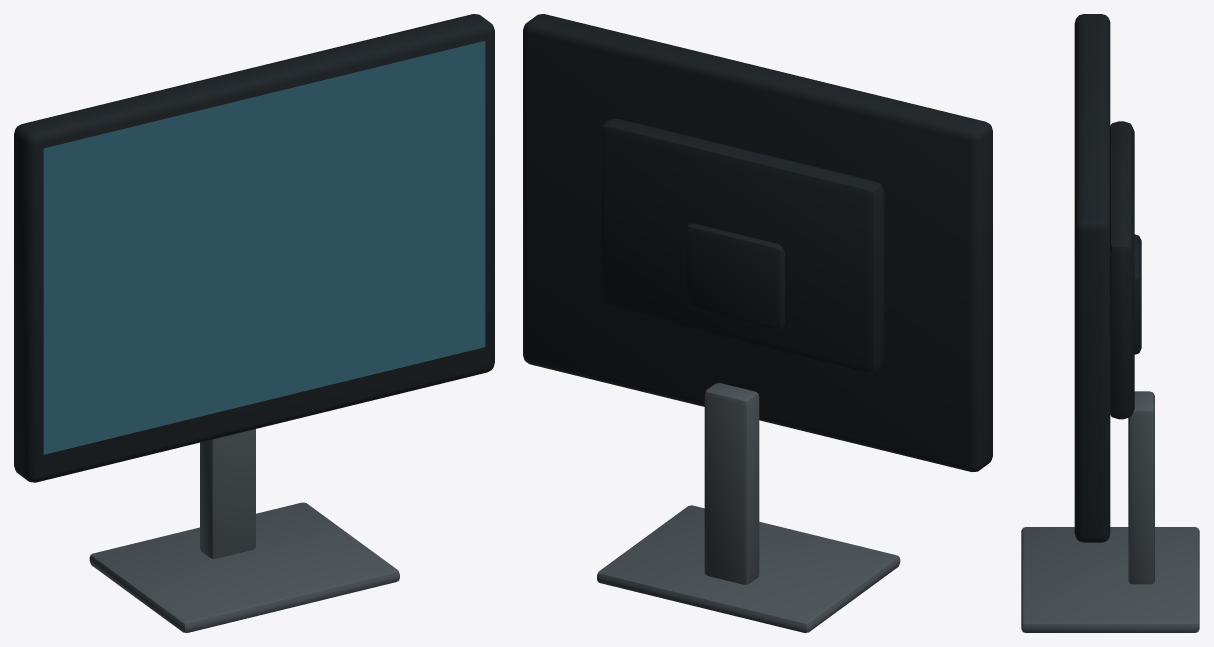
Rendered from checkin-monitor.glb.
The picture shows the model from 3 angles, left to right: view 1: azimuth 30°, elevation 25°; view 2: azimuth 150°, elevation 25°; view 3: azimuth 270°, elevation 25°; orthographic projection. The views are drawn at different scales.
Visible parts, largest first — view 1: screen, housing, base, neck; view 2: housing, back, base, neck, mount; view 3: housing, base, back, neck, mount.
Part boxes in pixels (x1,y1,x2,y2): screen: (43,41,485,454); housing: (14,14,494,482); base: (89,502,399,632); neck: (200,429,255,558); housing: (523,14,992,471); back: (601,119,884,372); base: (597,505,900,632); neck: (704,383,759,584); mount: (686,223,784,329); housing: (1074,14,1110,542); base: (1021,527,1199,632); back: (1110,121,1134,419); neck: (1128,391,1154,584); mount: (1134,234,1141,354).
Size of the model in its own units: 0.56 by 0.58 by 0.2.
